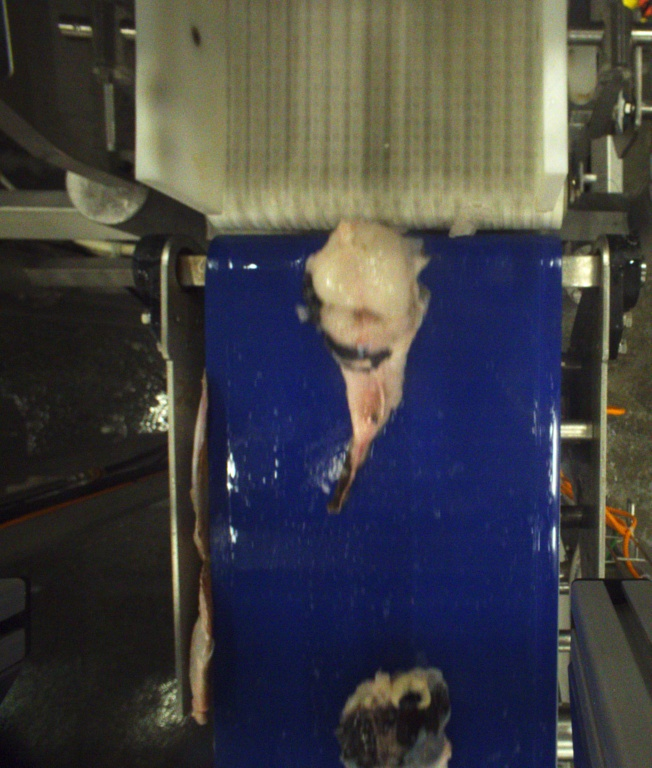ANF: (304, 214, 429, 514)
